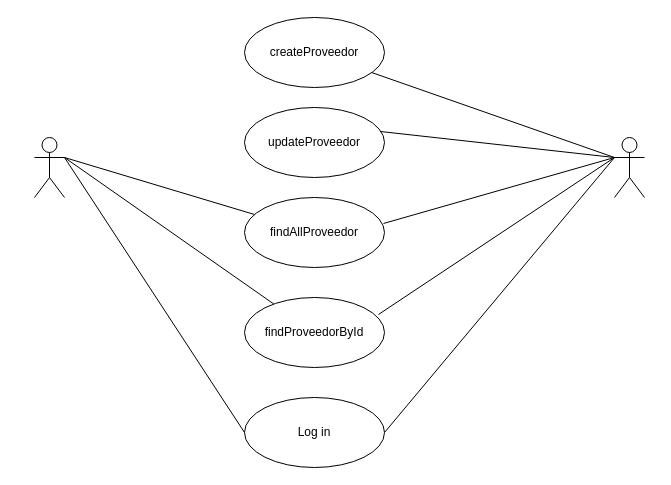
This 671x485 diagram has some shape labels left out. Here are the shapes that lost their labels. From the top down, the box of each, then its label:
(34, 136, 64, 198): Employer
(614, 136, 644, 198): Manager
